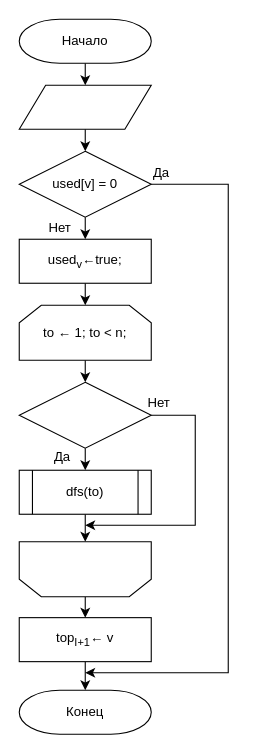
This 256x754 diagram has some shape labels left out. The shapes that lost their labels are listed below. From the top down, each one's centre as x and y in pixels, then its label:
pixel 84 106: Ввод v
pixel 84 414: g[v][to]=0
pixel 84 569: i ← i + 1;
